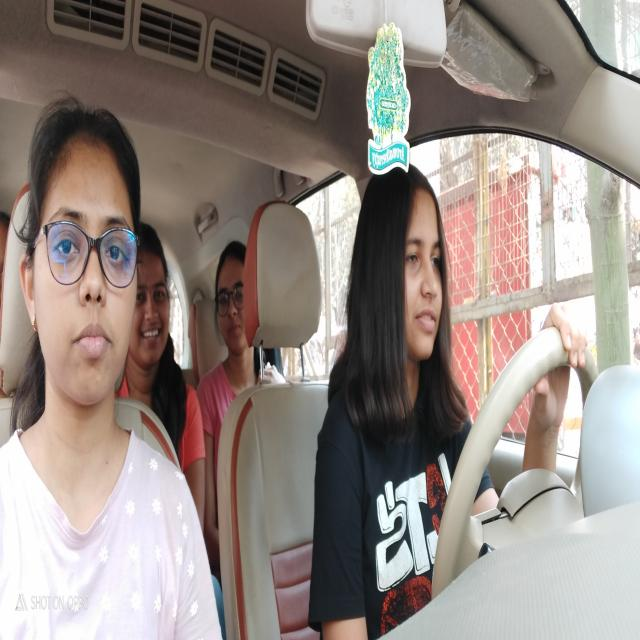person: (29, 139, 137, 410), (397, 176, 450, 374), (138, 233, 172, 371), (216, 243, 251, 363)
